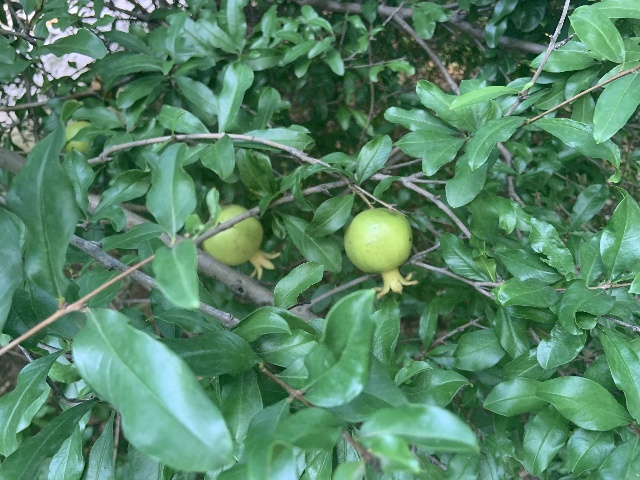mid-growth: (343, 207, 420, 298), (201, 204, 281, 279)
